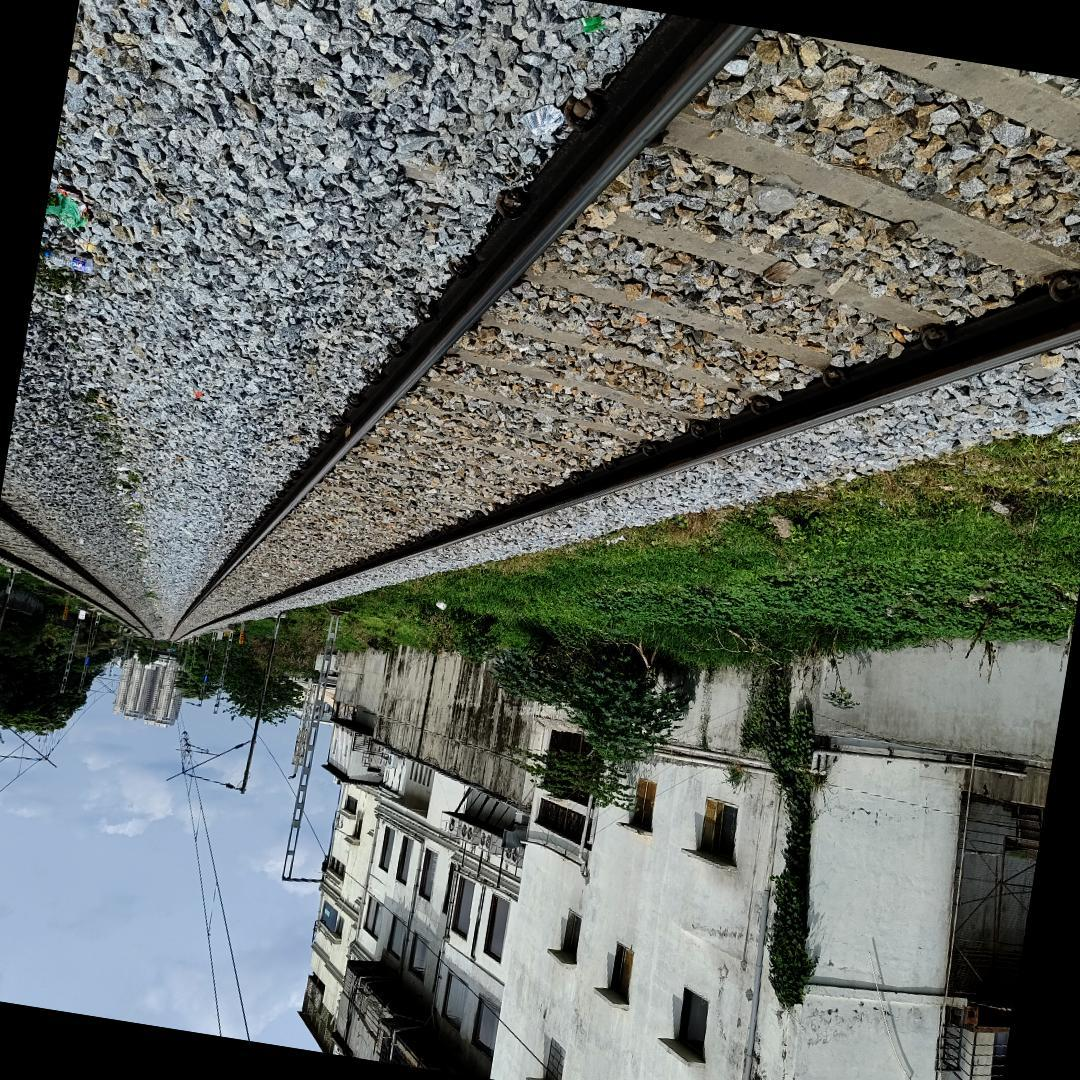track: (164, 8, 1080, 645)
